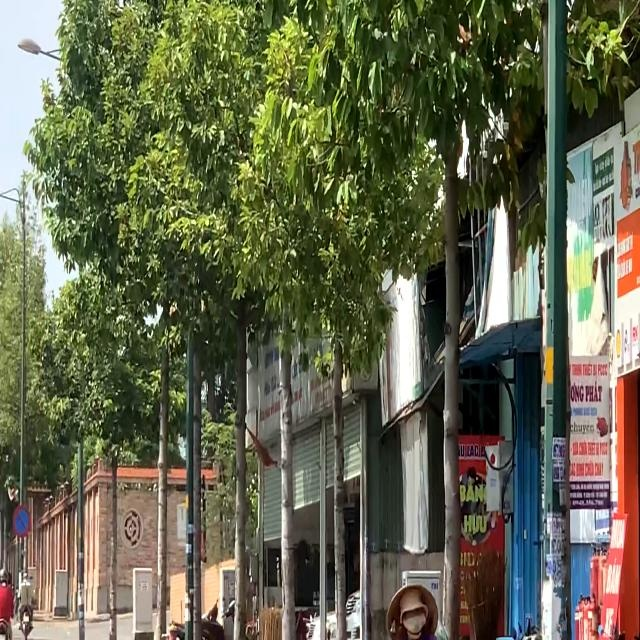bien_cam: (10, 502, 34, 542)
